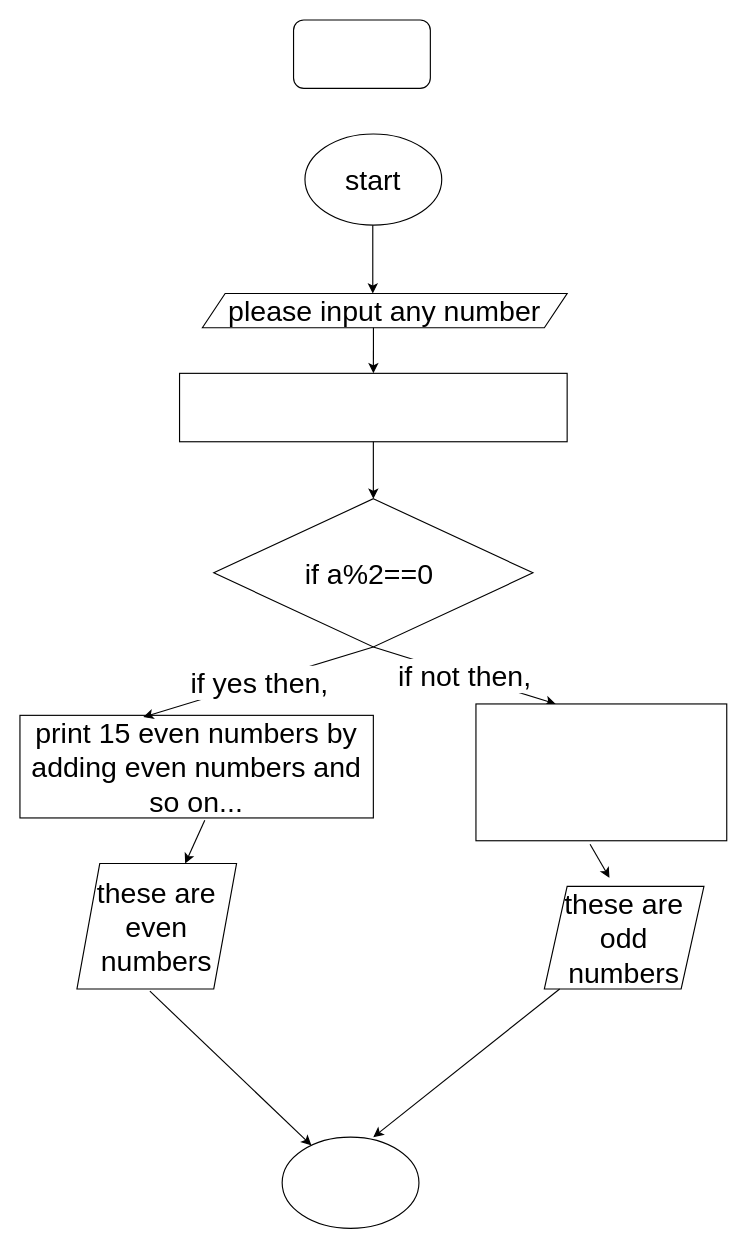
This 747x1248 diagram has some shape labels left out. The centre of each missing label's shape, as x and y in pixels:
a%2: (372,407)
flowchart: (361,53)
print 15 numbers by adding odd numbers to and son: (601,772)
